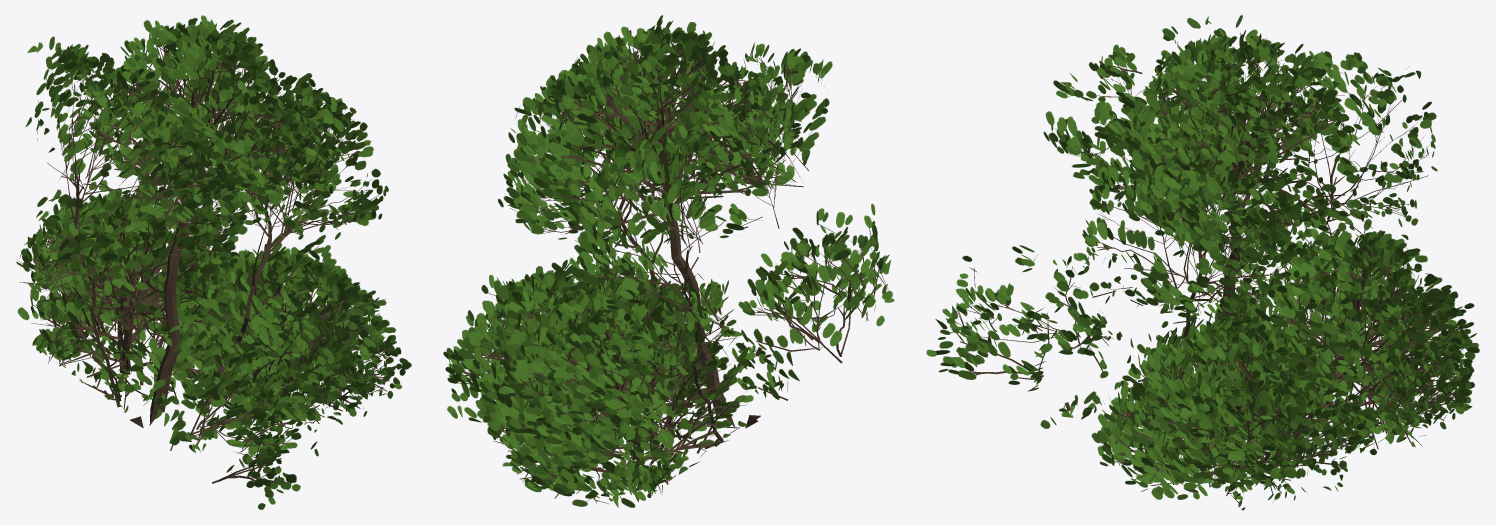
3 renders of one model, left to right at view 1: azimuth 30°, elevation 25°; view 2: azimuth 150°, elevation 25°; view 3: azimuth 270°, elevation 25°, orthographic. The views are drawn at different scales.
Parts seen in each view (by area): view 1: oak 01.001_trunk_Mat.001_0.214; view 2: oak 01.001_trunk_Mat.001_0.214; view 3: oak 01.001_trunk_Mat.001_0.214.
Part boxes in pixels (x1,y1,x2,y2): oak 01.001_trunk_Mat.001_0.214: [16, 15, 411, 509]; oak 01.001_trunk_Mat.001_0.214: [443, 15, 894, 507]; oak 01.001_trunk_Mat.001_0.214: [926, 15, 1479, 510].
Bounding box in the file's own units: 3.9 × 5.08 × 6.25.
Materials: 2 (1 with a texture image).
